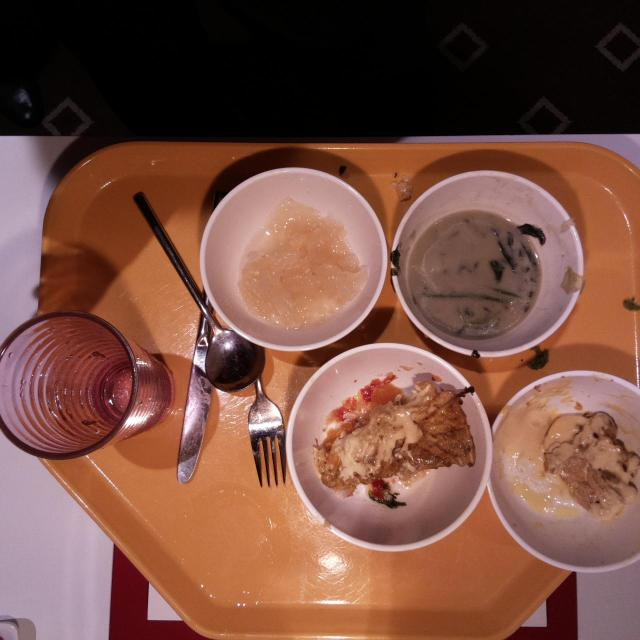Meat: (322, 389, 478, 471), (544, 451, 622, 514)
